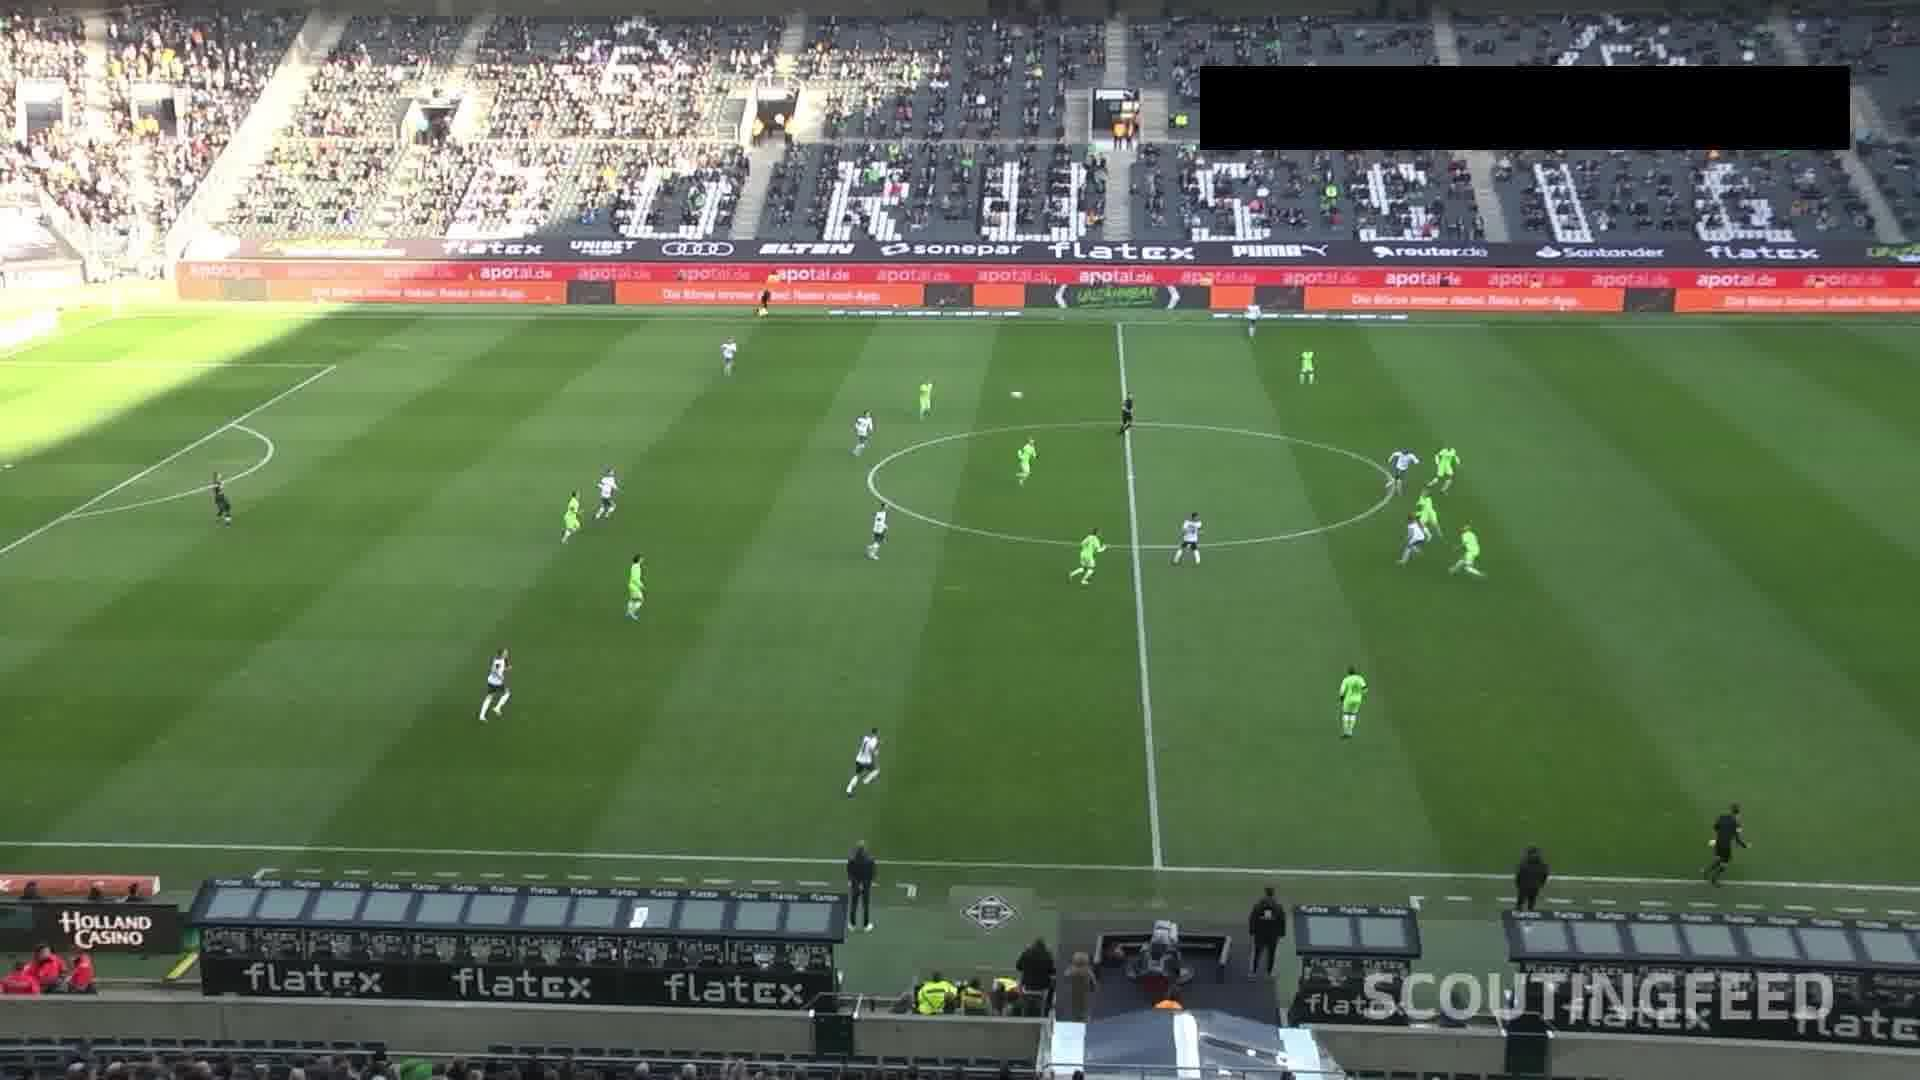football: (1009, 393, 1023, 400)
